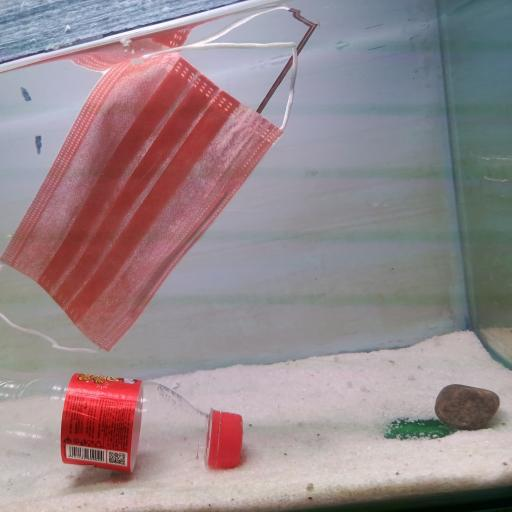bottle_cap: (201, 407, 248, 469)
mask: (2, 40, 314, 360)
plastic_bottle: (5, 377, 247, 487)
